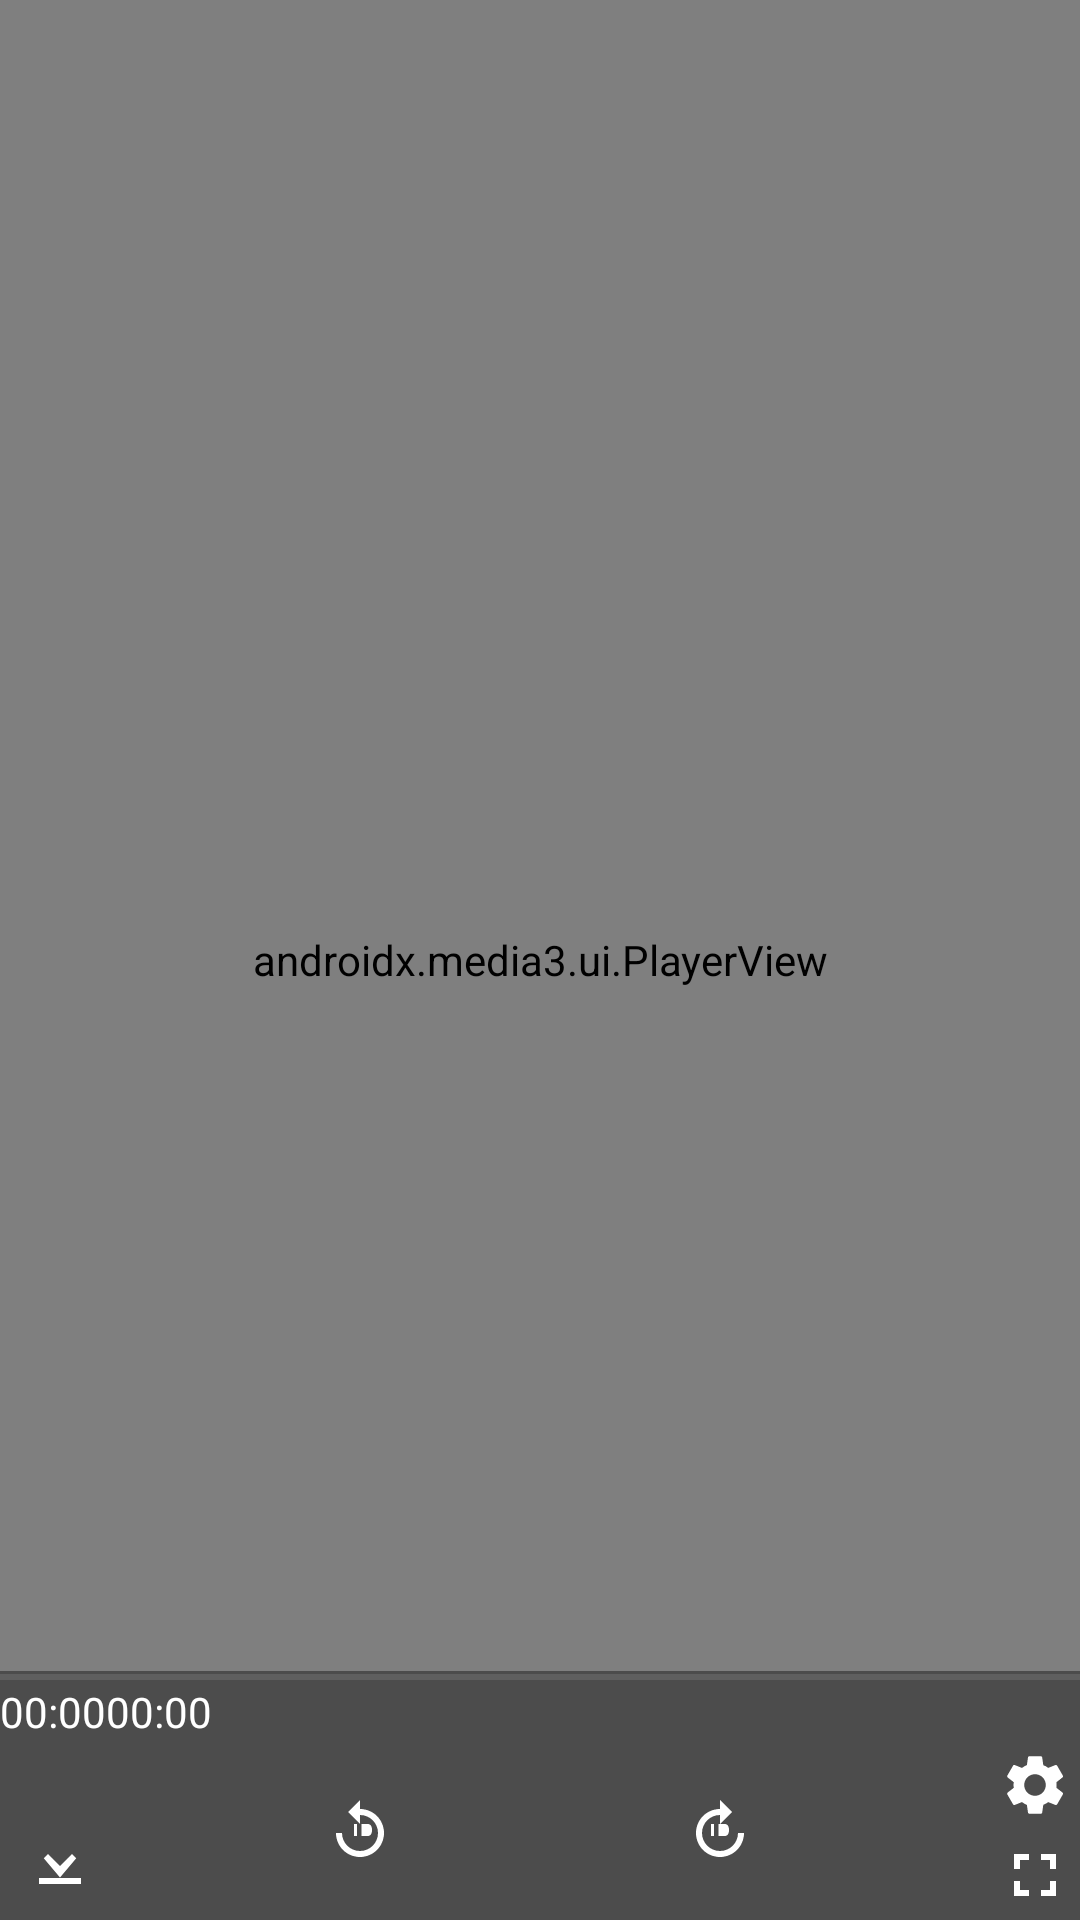

Where icons sit on this 1080w x 1920h app screen, as rect(x1, y1, x2, y2):
download: rect(39, 1854, 81, 1884)
fullscreen: rect(1014, 1854, 1056, 1896)
settings: rect(1007, 1756, 1063, 1814)
